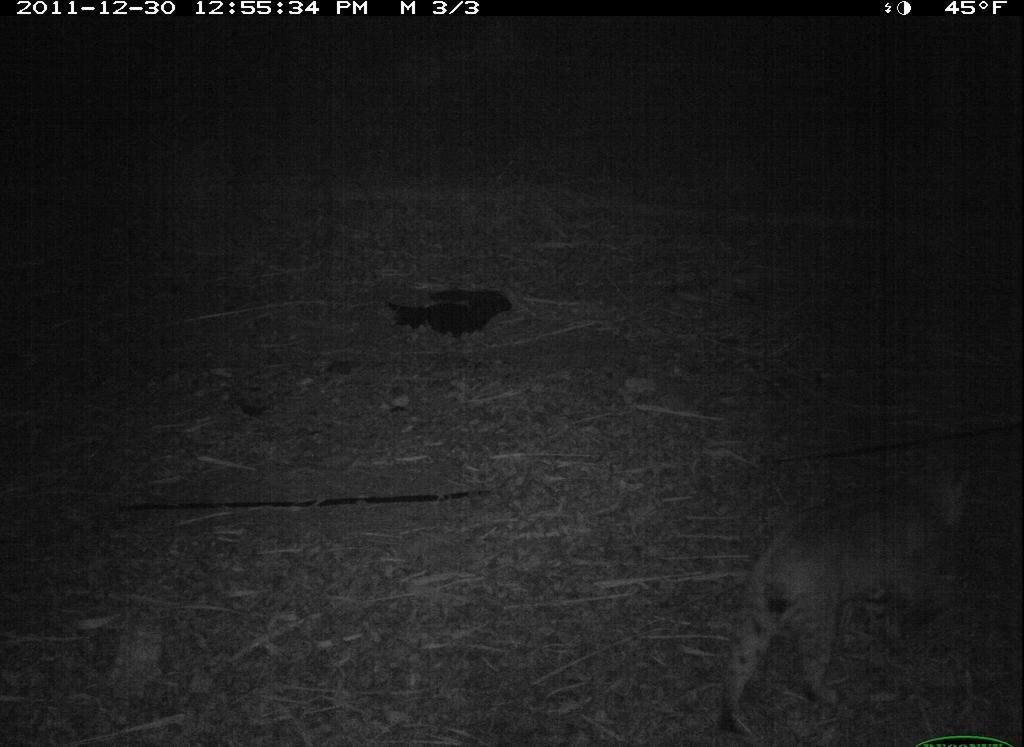bobcat: (715, 451, 985, 747)
